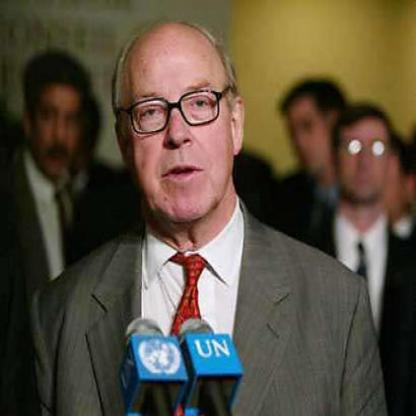face: (123, 20, 235, 225), (33, 58, 86, 175), (339, 107, 395, 201), (283, 88, 330, 177)
